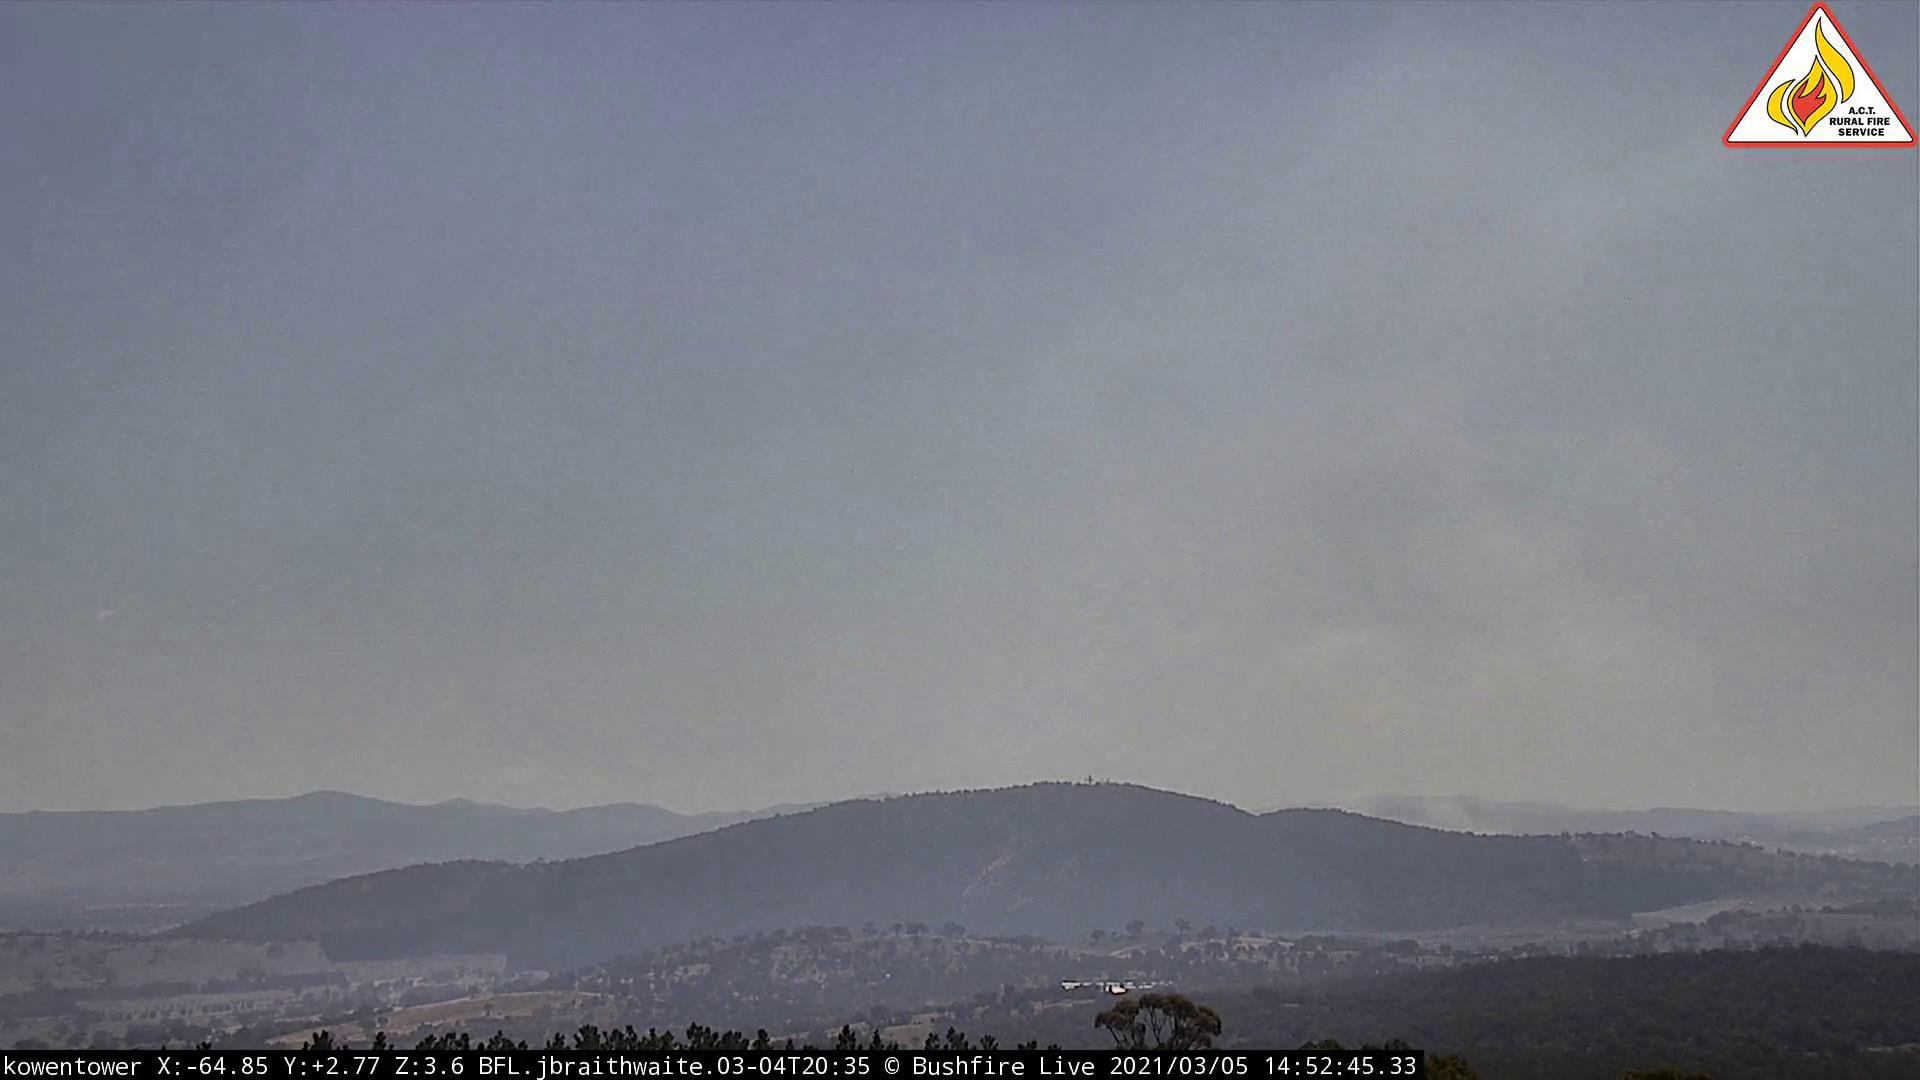Smoke: (1040, 371, 1753, 833)
